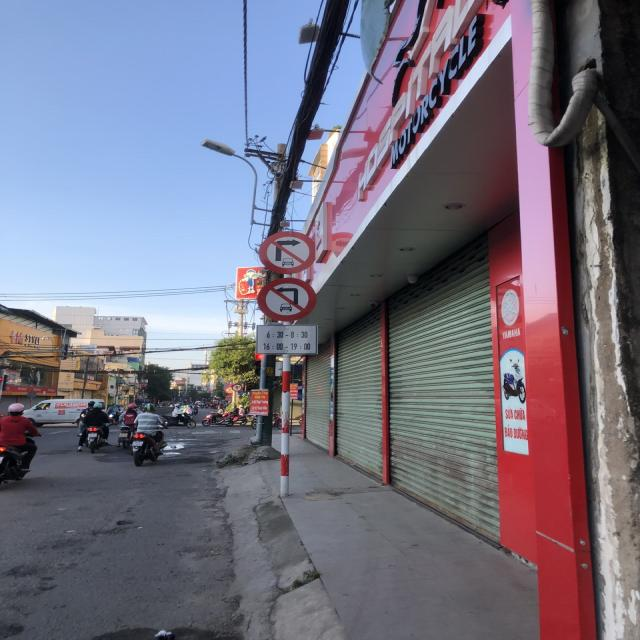Bien bao cam xe o to re phai: (256, 225, 321, 276)
Bien bao cam xe o to re trai: (253, 276, 319, 324)
